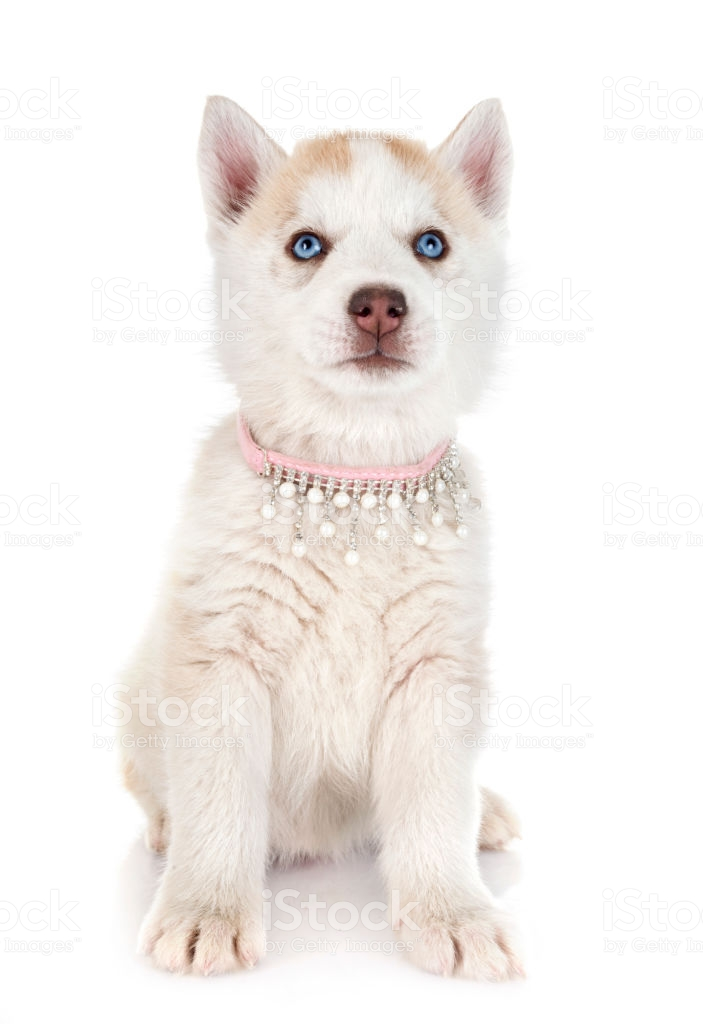husky: (103, 72, 547, 975)
